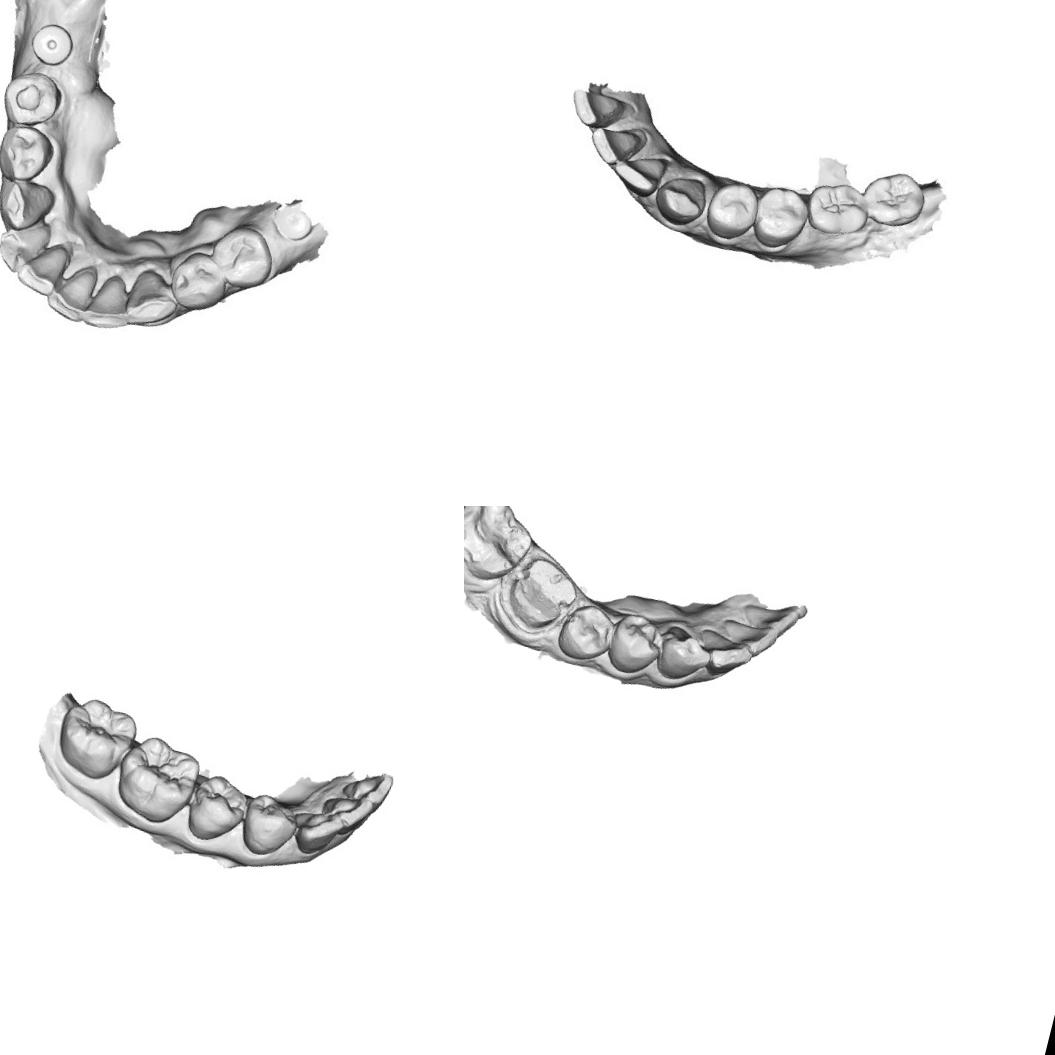canine: (650, 620, 717, 688), (122, 264, 183, 329), (0, 175, 57, 238), (654, 170, 712, 230)
crown: (494, 546, 586, 639)
implant: (25, 18, 78, 70), (269, 202, 315, 244)
incisor: (42, 257, 100, 324), (80, 268, 137, 335), (13, 237, 72, 299), (566, 82, 633, 134), (694, 628, 756, 684), (0, 214, 52, 279), (289, 802, 345, 862), (736, 594, 804, 639), (336, 760, 398, 808), (318, 786, 379, 834), (718, 616, 780, 662), (588, 122, 641, 168), (615, 152, 664, 196)
molar: (107, 727, 208, 832), (47, 689, 144, 788), (464, 506, 542, 591), (801, 172, 876, 245), (858, 162, 930, 236)
premolar: (176, 766, 254, 850), (204, 219, 280, 295), (233, 786, 306, 863), (550, 595, 622, 668), (600, 604, 667, 682), (164, 246, 234, 318), (748, 180, 812, 256), (701, 174, 766, 248), (0, 64, 65, 133), (0, 120, 58, 187)
